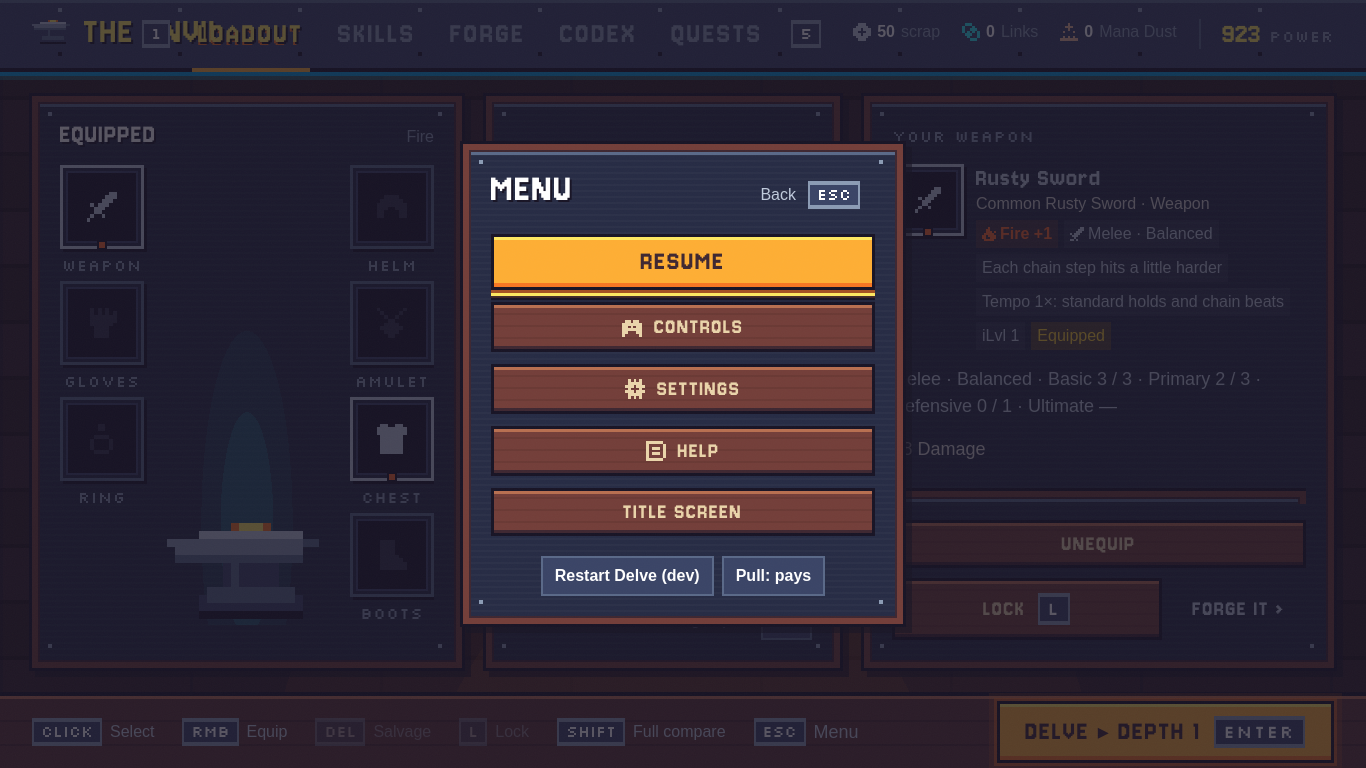
AnvilHub › on the pad Menu opens the system menu, View the Depart sheet, and B nothing at the hub's root
This screenshot has width=1366, height=768.
expect the dialog with test id "system-menu" is shown: met, box x1=463 y1=144 x2=903 y2=624
Click the button with test id "menu-resume": (683, 262) x1=491 y1=234 x2=875 y2=290
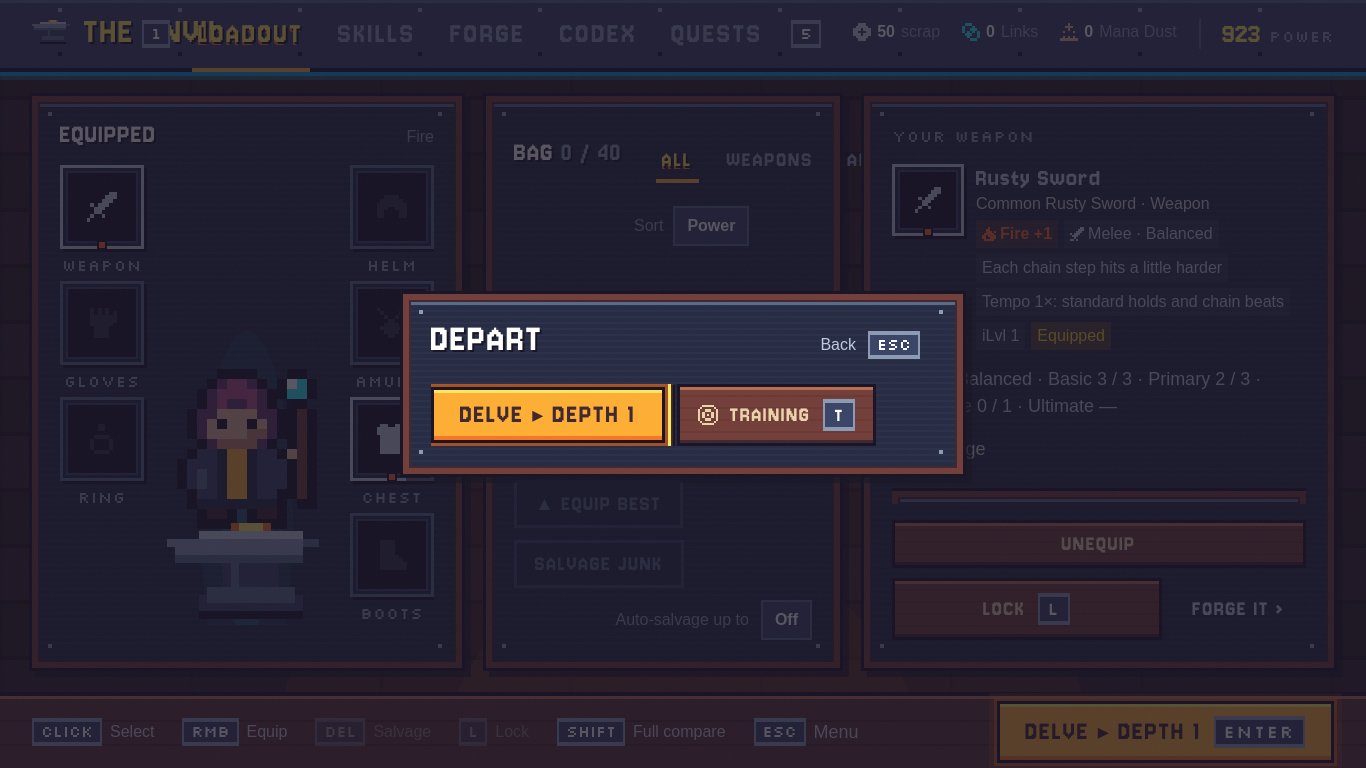
expect the dialog with test id "depart-sheet" is shown: met, box x1=403 y1=294 x2=963 y2=474
